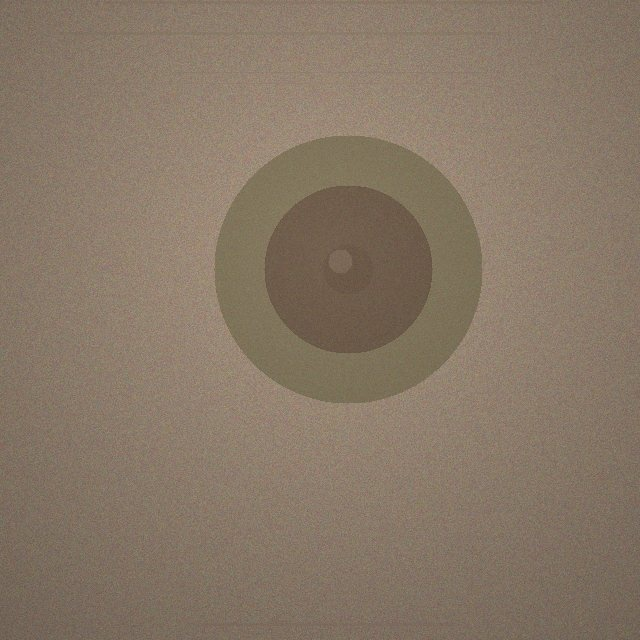good: (214, 135, 482, 403)
